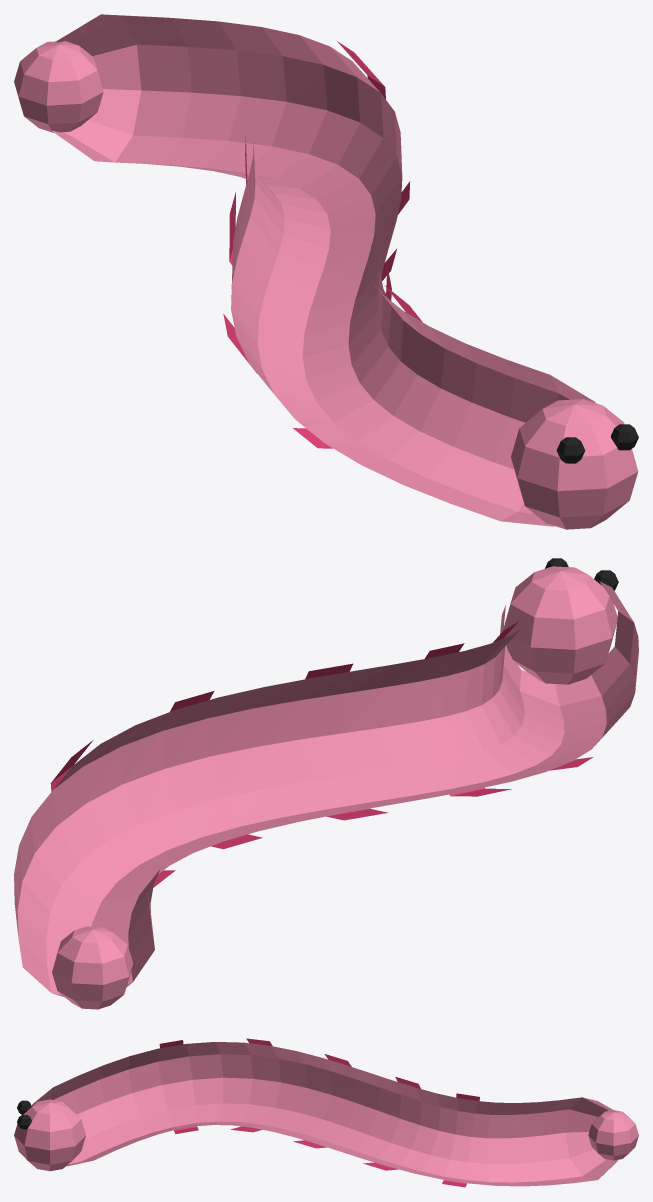
Rendered from mask.glb.
3 renders of one model, top to bottom at view 1: azimuth 30°, elevation 25°; view 2: azimuth 150°, elevation 25°; view 3: azimuth 270°, elevation 25°, orthographic. The views are drawn at different scales.
Visible parts, largest first — view 1: mask; view 2: mask; view 3: mask.
Part boxes in pixels (x1,y1,x2,y2): mask: (14, 14, 638, 529); mask: (14, 558, 638, 1009); mask: (14, 1038, 638, 1187).
Bounding box in the file's own units: 0.3971 × 0.2089 × 1.11.
